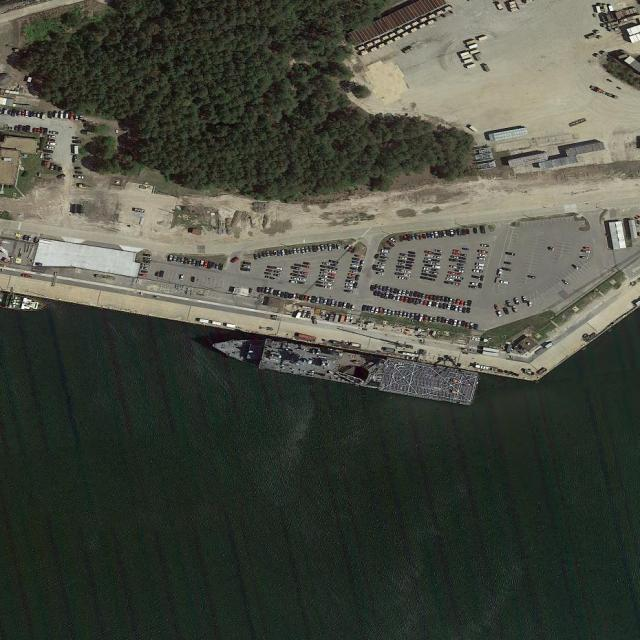Landing: (209, 323, 481, 409)
